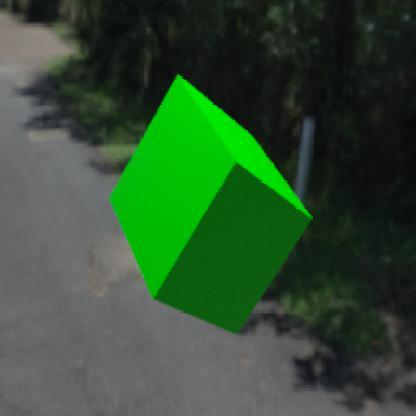green_cube: (108, 74, 312, 334)
